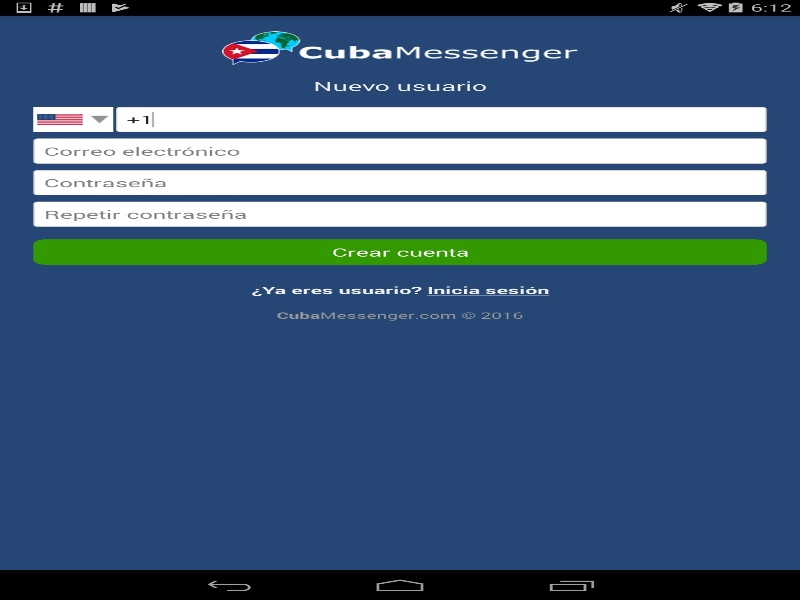Button: (33, 239, 766, 264)
Input: (33, 138, 766, 163), (33, 170, 766, 195), (33, 201, 766, 226), (115, 106, 766, 132)
